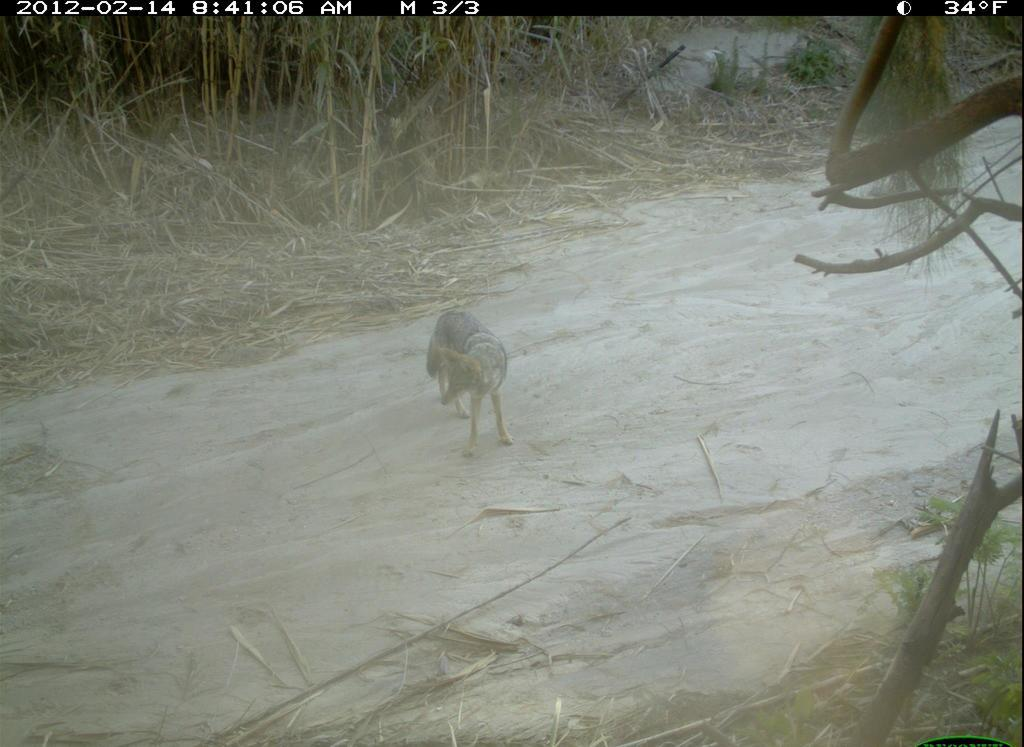coyote: (423, 287, 525, 468)
